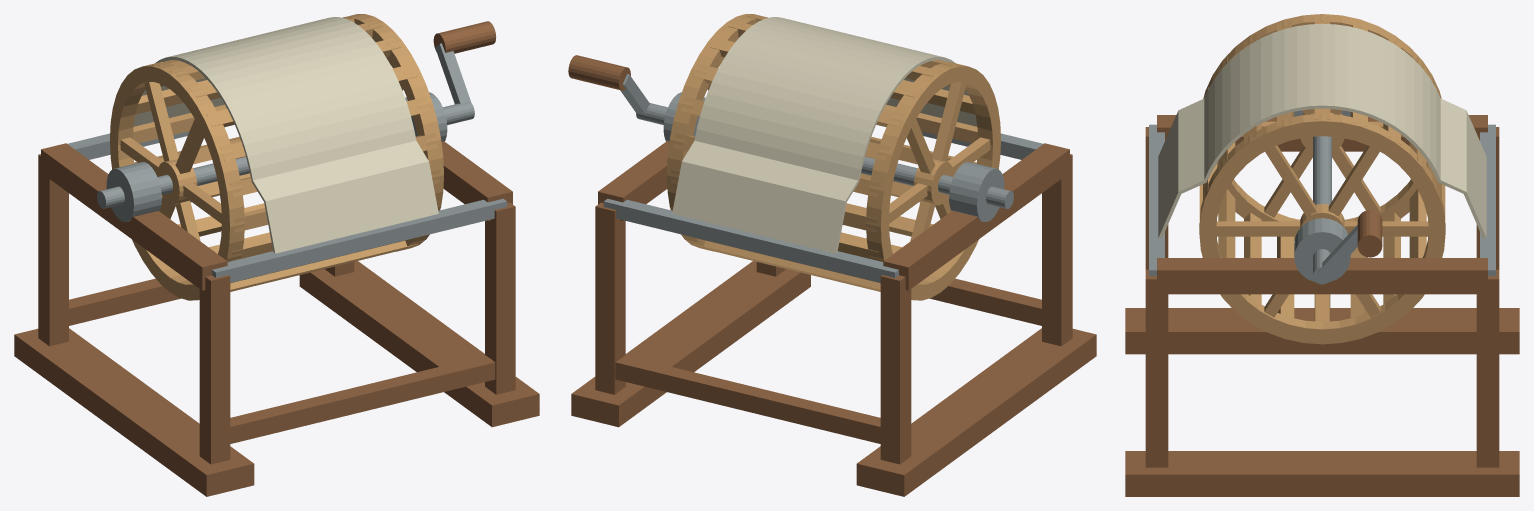
The picture shows the model from 3 angles, left to right: view 1: azimuth 30°, elevation 25°; view 2: azimuth 150°, elevation 25°; view 3: azimuth 270°, elevation 25°; orthographic projection. The views are drawn at different scales.
Visible parts, largest first — view 1: WholeContinuousUpperClothApron, WholeGroundFootSideShoe_Left, WholeGroundFootSideShoe_Right, WholeOpenAnnularDrumHoop_Left, WholeFrameLowTie_-0.47, WholeEndBearingCrossCap_Left, WholeFrameUpright_Left-0.47, WholeClothClampingCrossbar_-0.47, WholeFrameUpright_Right-0.47, WholeFrameUpright_Left0.47, WholeOpenAnnularDrumHoop_Right, WholeFrameLowTie_0.47 (+16 smaller); view 2: WholeContinuousUpperClothApron, WholeGroundFootSideShoe_Left, WholeGroundFootSideShoe_Right, WholeOpenAnnularDrumHoop_Left, WholeFrameLowTie_0.47, WholeEndBearingCrossCap_Left, WholeFrameUpright_Left0.47, WholeClothClampingCrossbar_0.47, WholeFrameUpright_Right0.47, WholeFrameUpright_Left-0.47, WholeOpenAnnularDrumHoop_Right, WholeFrameLowTie_-0.47 (+15 smaller); view 3: WholeContinuousUpperClothApron, WholeGroundFootSideShoe_Right, WholeGroundFootSideShoe_Left, WholeOpenAnnularDrumHoop_Right, WholeEndBearingCrossCap_Right, WholeFrameUpright_Right-0.47, WholeFrameUpright_Right0.47, WholeOpenAnnularDrumHoop_Left, WholeBoredAxleSleeve_Right, WholeThroughDrumAxle, WholeClothClampingCrossbar_-0.47, WholeClothClampingCrossbar_0.47 (+18 smaller).
Boxes of the visible parts, x1,y1,x2,y2 form: WholeContinuousUpperClothApron: (133,17,438,253); WholeGroundFootSideShoe_Left: (14,328,254,496); WholeGroundFootSideShoe_Right: (299,261,539,427); WholeOpenAnnularDrumHoop_Left: (110,62,244,300); WholeFrameLowTie_-0.47: (230,355,495,443); WholeEndBearingCrossCap_Left: (41,143,227,290); WholeFrameUpright_Left-0.47: (199,275,230,464); WholeClothClampingCrossbar_-0.47: (212,198,507,282); WholeFrameUpright_Right-0.47: (485,202,515,394); WholeFrameUpright_Left0.47: (38,154,68,346); WholeOpenAnnularDrumHoop_Right: (343,14,443,251); WholeFrameLowTie_0.47: (69,278,181,325); WholeContinuousUpperClothApron: (672,17,977,253); WholeGroundFootSideShoe_Left: (856,328,1096,496); WholeGroundFootSideShoe_Right: (571,261,810,427); WholeOpenAnnularDrumHoop_Left: (866,62,1000,300); WholeFrameLowTie_0.47: (615,355,880,443); WholeEndBearingCrossCap_Left: (883,143,1069,290); WholeFrameUpright_Left0.47: (880,275,911,464); WholeClothClampingCrossbar_0.47: (603,198,898,282); WholeFrameUpright_Right0.47: (595,202,625,394); WholeFrameUpright_Left-0.47: (1042,154,1072,346); WholeOpenAnnularDrumHoop_Right: (667,14,767,251); WholeFrameLowTie_-0.47: (929,278,1041,325); WholeContinuousUpperClothApron: (1158,23,1486,238); WholeGroundFootSideShoe_Right: (1125,451,1519,496); WholeGroundFootSideShoe_Left: (1125,308,1519,354); WholeOpenAnnularDrumHoop_Right: (1199,113,1445,344); WholeEndBearingCrossCap_Right: (1157,258,1487,294); WholeFrameUpright_Right-0.47: (1145,269,1168,467); WholeFrameUpright_Right0.47: (1476,269,1499,467); WholeOpenAnnularDrumHoop_Left: (1203,14,1441,240); WholeBoredAxleSleeve_Right: (1294,218,1350,282); WholeThroughDrumAxle: (1313,136,1331,284); WholeClothClampingCrossbar_-0.47: (1149,124,1164,275); WholeClothClampingCrossbar_0.47: (1480,124,1495,275).
Size of the model in its own units: 1.38 by 1.09 by 1.12.
